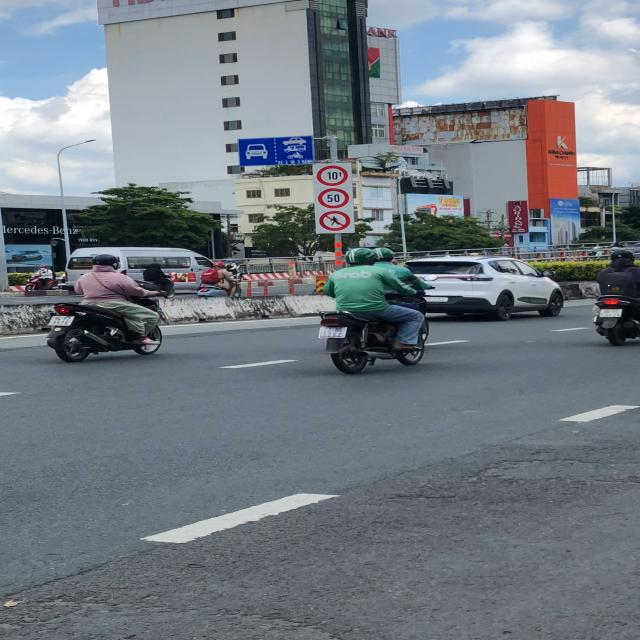Bien bao toc do toi da cho phep: (315, 186, 354, 212)
